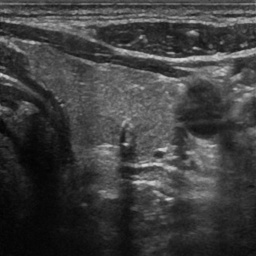mass: (116, 119, 141, 164)
